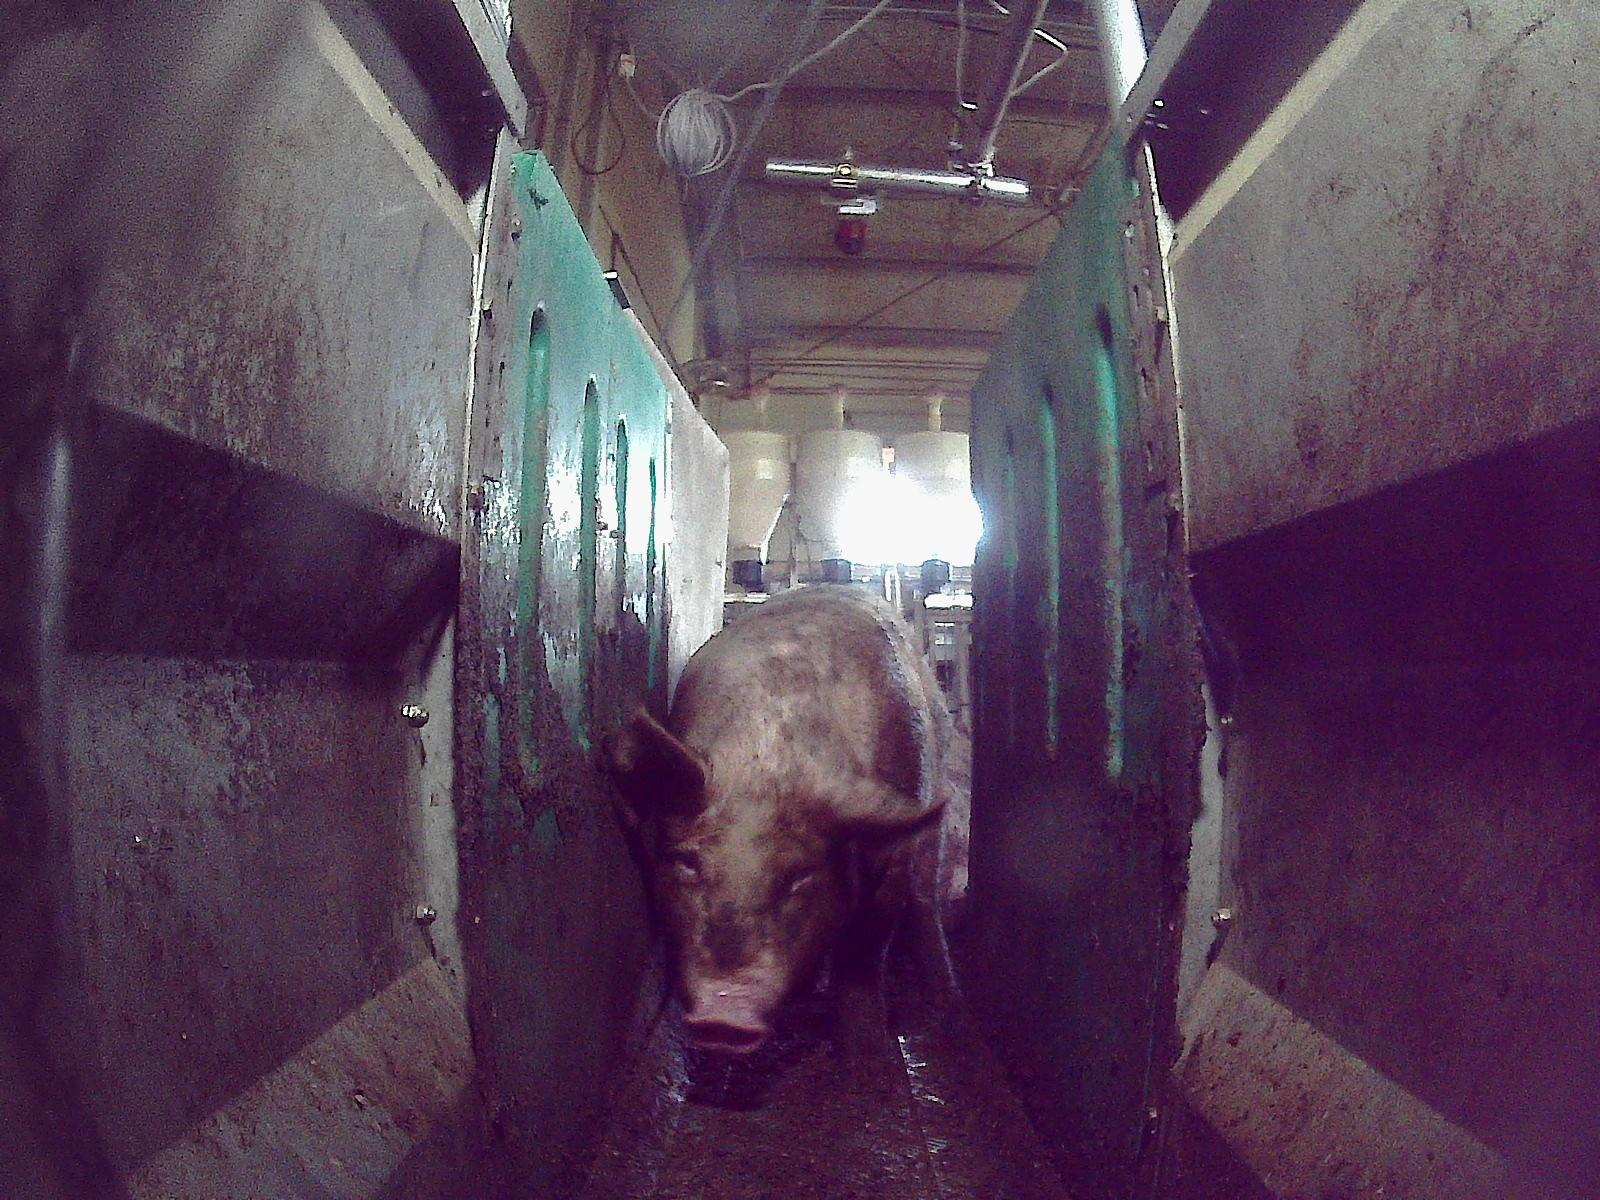Face: (644, 751, 842, 1051)
